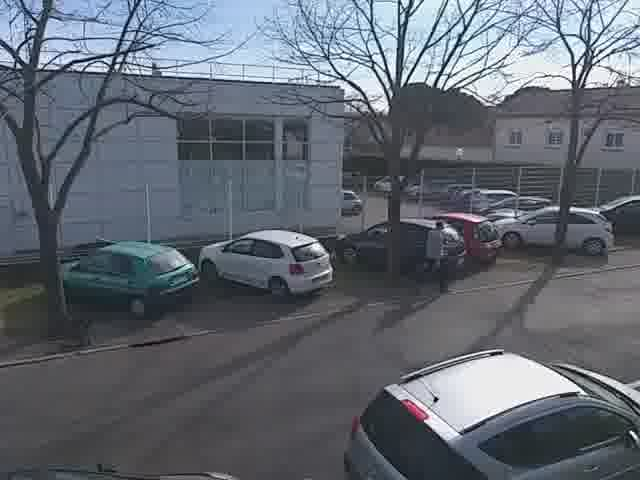persona: (417, 211, 455, 296)
